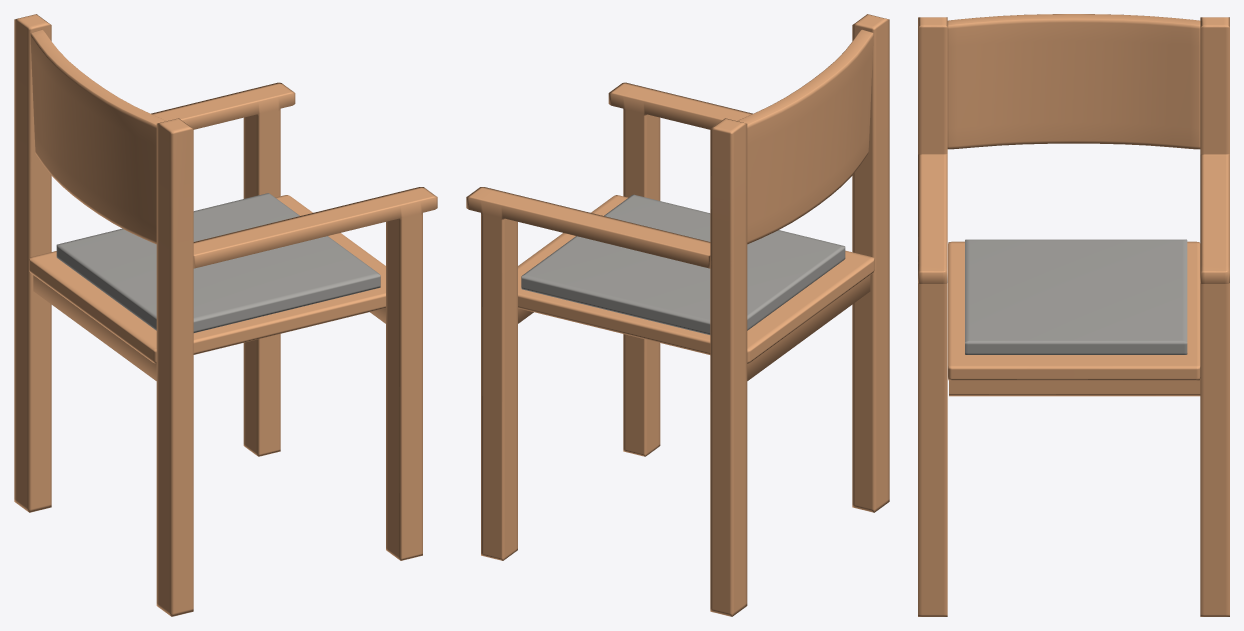
File: MSH_EstanciaRoof_SillaComedor.fbx
3 views of the same model, side by side, from view 1: azimuth 30°, elevation 25°; view 2: azimuth 150°, elevation 25°; view 3: azimuth 270°, elevation 25° (orthographic).
Parts seen in each view (by area): view 1: MSH_EstanciaRoof_SillaComedor; view 2: MSH_EstanciaRoof_SillaComedor; view 3: MSH_EstanciaRoof_SillaComedor.
Boxes of the visible parts, x1=… form: MSH_EstanciaRoof_SillaComedor: x1=14, y1=14, x2=437, y2=616; MSH_EstanciaRoof_SillaComedor: x1=466, y1=14, x2=889, y2=616; MSH_EstanciaRoof_SillaComedor: x1=918, y1=14, x2=1229, y2=616.
Size of the model in its own units: 76.28 by 126 by 74.28.
